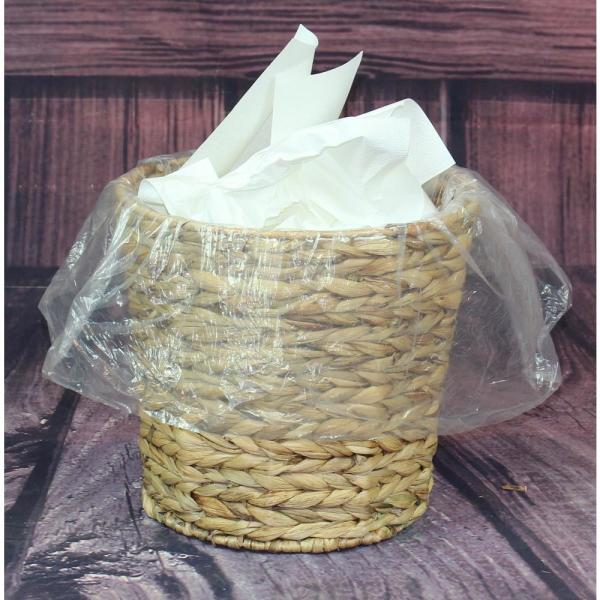Tissue: (137, 23, 455, 233)
